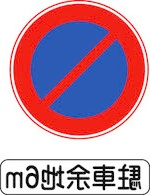Prohibition_sign: (7, 2, 150, 140)
